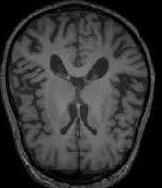Normal_Brain: (10, 1, 154, 188)
